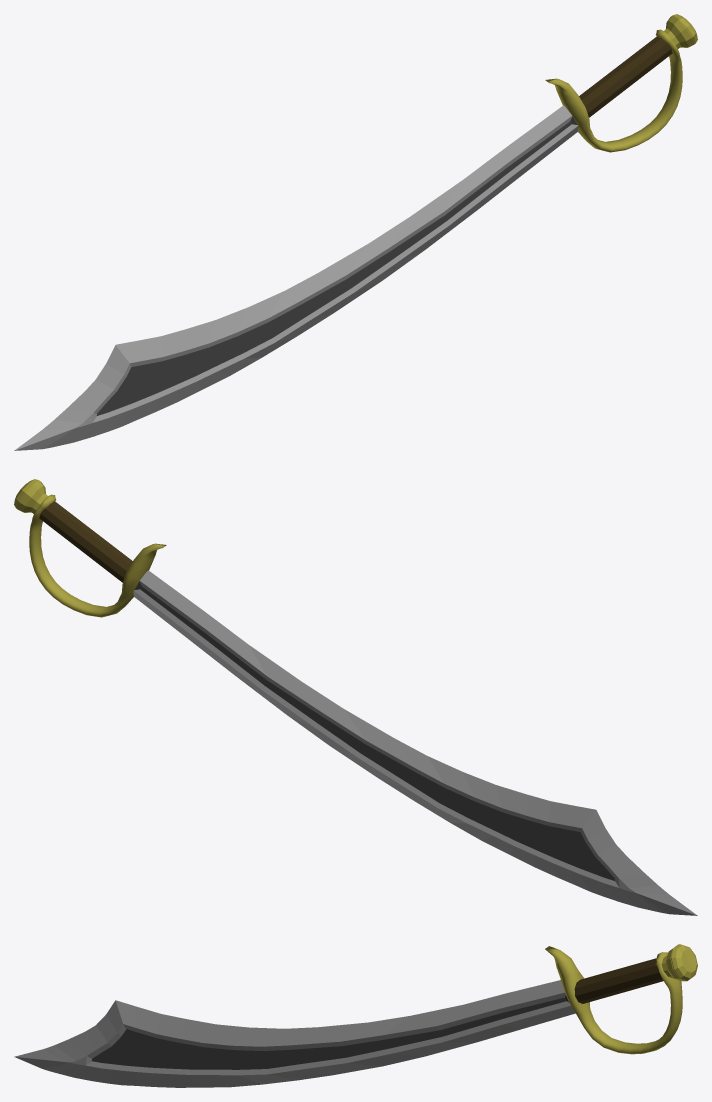
Rendered from Scimitar.fbx.
3 views of the same model, one above another, from view 1: azimuth 30°, elevation 25°; view 2: azimuth 150°, elevation 25°; view 3: azimuth 330°, elevation 25° (orthographic).
Visible parts, largest first — view 1: Scimitar; view 2: Scimitar; view 3: Scimitar.
Boxes of the visible parts, box(x1,y1,x2,y2) form: Scimitar: box(14, 14, 697, 450); Scimitar: box(14, 479, 697, 915); Scimitar: box(14, 944, 697, 1087).
Size of the model in its own units: 490 by 192 by 23.81.
